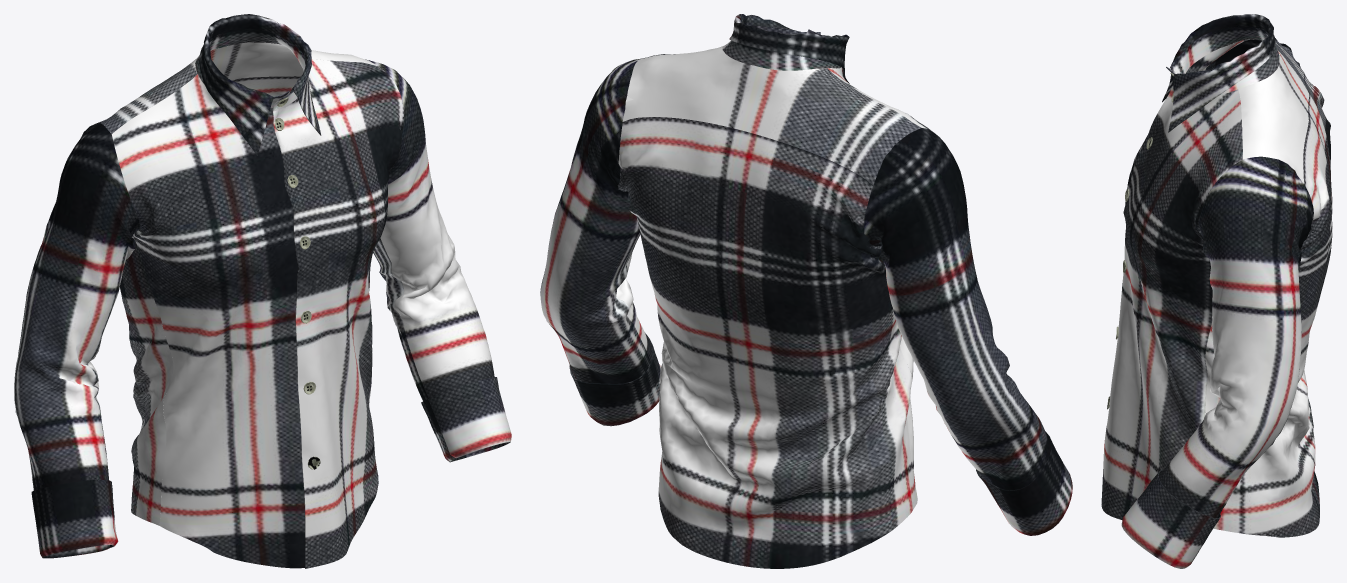
File: shirt.fbx
The picture shows the model from 3 angles, left to right: view 1: azimuth 30°, elevation 25°; view 2: azimuth 150°, elevation 25°; view 3: azimuth 270°, elevation 25°; orthographic projection. The views are drawn at different scales.
Visible parts, largest first — view 1: Shirt01_Shirt00_1:Pattern2D_7660, Shirt00_1:Pattern2D_4228_Shirt01, Shirt01_Shirt00_1:Pattern2D_22590, Shirt01_Shirt00_1:Pattern2D_12616, Shirt01_Shirt00_1:Pattern2D_7658, Shirt01_Shirt00_1:Pattern2D_22589, Shirt01_Shirt00_1:Pattern2D_22591, Shirt01_Shirt00_1:Pattern2D_14923, Shirt01_Shirt00_1:Pattern2D_7659, Shirt01_Shirt00_1:Pattern2D_21425; view 2: Shirt01_Shirt00_1:Pattern2D_7658, Shirt01_Shirt00_1:Pattern2D_22590, Shirt01_Shirt00_1:Pattern2D_12616, Shirt01_Shirt00_1:Pattern2D_7659, Shirt01_Shirt00_1:Pattern2D_22591, Shirt01_Shirt00_1:Pattern2D_14923, Shirt01_Shirt00_1:Pattern2D_22589, Shirt01_Shirt00_1:Pattern2D_21425, Shirt01_Shirt00_1:Pattern2D_7660; view 3: Shirt00_1:Pattern2D_4228_Shirt01, Shirt01_Shirt00_1:Pattern2D_12616, Shirt01_Shirt00_1:Pattern2D_7658, Shirt01_Shirt00_1:Pattern2D_7659, Shirt01_Shirt00_1:Pattern2D_14923, Shirt01_Shirt00_1:Pattern2D_22589, Shirt01_Shirt00_1:Pattern2D_21425, Shirt01_Shirt00_1:Pattern2D_7660, Shirt01_Shirt00_1:Pattern2D_22590.
Boxes of the visible parts, x1,y1,x2,y2 form: Shirt01_Shirt00_1:Pattern2D_7660: [111, 74, 304, 568]; Shirt00_1:Pattern2D_4228_Shirt01: [273, 59, 403, 568]; Shirt01_Shirt00_1:Pattern2D_22590: [14, 122, 140, 558]; Shirt01_Shirt00_1:Pattern2D_12616: [365, 59, 510, 462]; Shirt01_Shirt00_1:Pattern2D_7658: [120, 76, 299, 525]; Shirt01_Shirt00_1:Pattern2D_22589: [199, 14, 321, 155]; Shirt01_Shirt00_1:Pattern2D_22591: [31, 479, 118, 558]; Shirt01_Shirt00_1:Pattern2D_14923: [421, 377, 511, 462]; Shirt01_Shirt00_1:Pattern2D_7659: [99, 42, 376, 133]; Shirt01_Shirt00_1:Pattern2D_21425: [195, 28, 306, 111]; Shirt01_Shirt00_1:Pattern2D_7658: [617, 117, 915, 568]; Shirt01_Shirt00_1:Pattern2D_22590: [864, 128, 1051, 490]; Shirt01_Shirt00_1:Pattern2D_12616: [540, 59, 652, 383]; Shirt01_Shirt00_1:Pattern2D_7659: [622, 46, 921, 185]; Shirt01_Shirt00_1:Pattern2D_22591: [976, 431, 1072, 535]; Shirt01_Shirt00_1:Pattern2D_14923: [569, 333, 660, 426]; Shirt01_Shirt00_1:Pattern2D_22589: [729, 14, 849, 83]; Shirt01_Shirt00_1:Pattern2D_21425: [722, 25, 841, 70]; Shirt01_Shirt00_1:Pattern2D_7660: [827, 67, 933, 504]; Shirt00_1:Pattern2D_4228_Shirt01: [1101, 86, 1242, 519]; Shirt01_Shirt00_1:Pattern2D_12616: [1158, 156, 1313, 518]; Shirt01_Shirt00_1:Pattern2D_7658: [1205, 73, 1332, 537]; Shirt01_Shirt00_1:Pattern2D_7659: [1238, 39, 1309, 183]; Shirt01_Shirt00_1:Pattern2D_14923: [1121, 469, 1220, 568]; Shirt01_Shirt00_1:Pattern2D_22589: [1162, 14, 1275, 132]; Shirt01_Shirt00_1:Pattern2D_21425: [1166, 26, 1279, 94]; Shirt01_Shirt00_1:Pattern2D_7660: [1127, 40, 1243, 187]; Shirt01_Shirt00_1:Pattern2D_22590: [1205, 38, 1300, 70].
Bounding box in the file's own units: 287 × 293 × 128.
